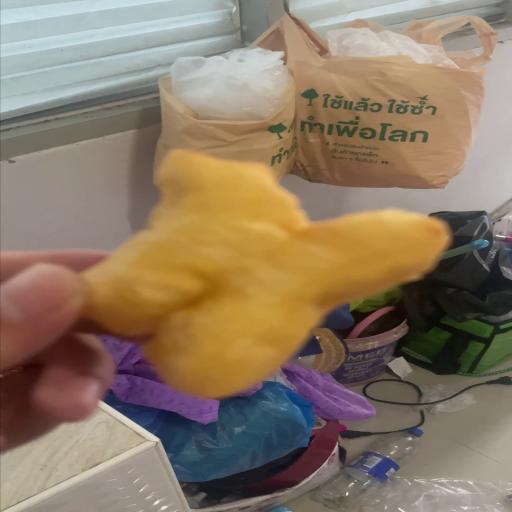street_golden_good: (85, 151, 448, 398)
